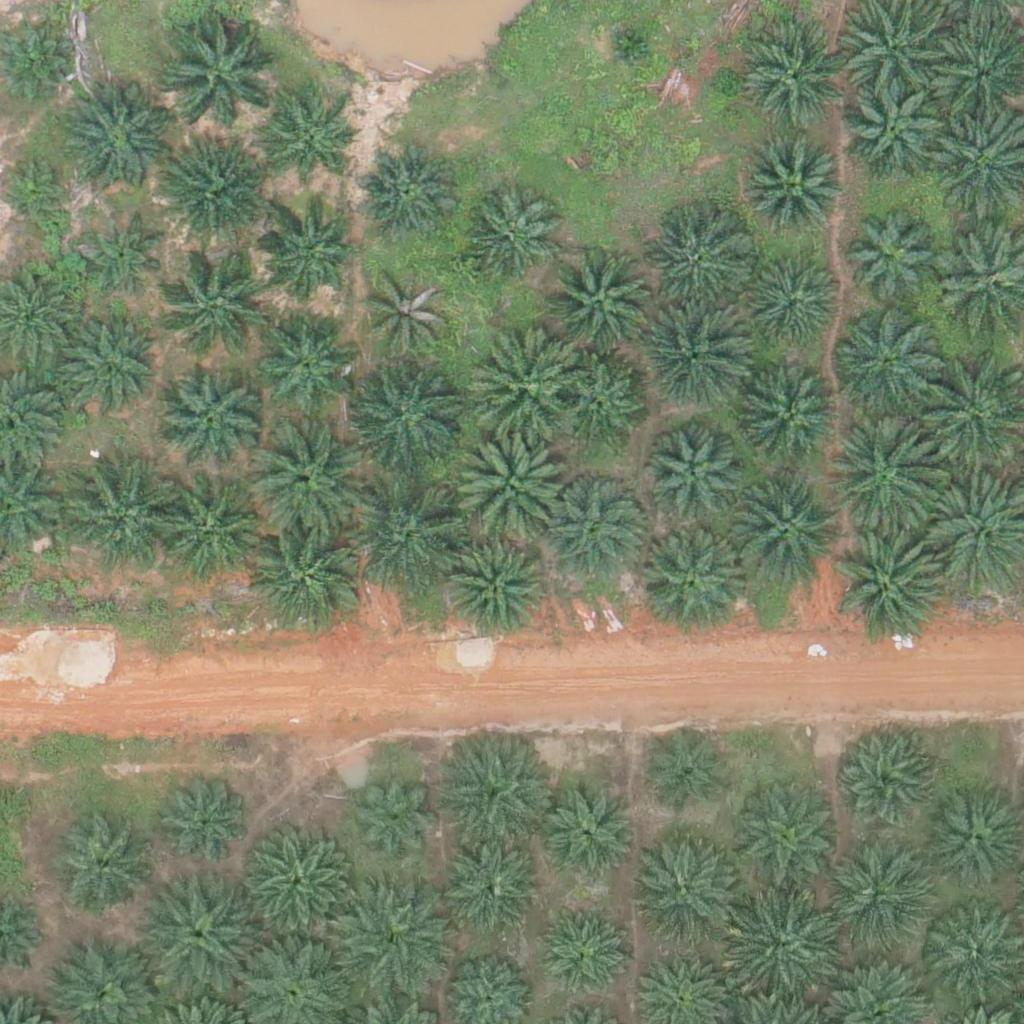Kelapa_Sawit: (823, 421, 936, 535), (639, 522, 752, 636), (726, 474, 839, 588), (338, 887, 451, 1000), (236, 828, 349, 941), (621, 835, 734, 948), (638, 301, 751, 414), (250, 522, 363, 635), (163, 12, 276, 125), (57, 85, 170, 198), (726, 780, 838, 894), (438, 729, 550, 843), (830, 305, 942, 419), (162, 243, 274, 357), (60, 460, 172, 574), (148, 877, 260, 990), (725, 895, 837, 1008), (835, 532, 947, 645), (543, 245, 655, 358), (466, 328, 578, 441), (453, 426, 565, 539), (355, 481, 467, 594), (351, 360, 463, 473), (249, 422, 361, 535), (150, 479, 262, 592), (153, 140, 265, 253), (154, 771, 254, 872), (440, 841, 540, 942), (842, 210, 942, 311), (843, 80, 943, 181), (644, 431, 744, 532), (545, 475, 645, 576), (459, 186, 559, 287), (255, 206, 355, 307), (157, 368, 257, 469), (57, 319, 157, 420), (53, 821, 153, 921), (823, 847, 923, 947), (834, 730, 934, 830), (532, 900, 632, 1000), (539, 776, 639, 876), (744, 31, 844, 131), (745, 140, 845, 240), (745, 256, 845, 356), (741, 372, 841, 472), (647, 216, 747, 316), (444, 538, 544, 638), (356, 141, 456, 241), (255, 310, 355, 410), (643, 726, 731, 814), (555, 359, 643, 447), (80, 213, 168, 301), (355, 774, 442, 862), (365, 272, 452, 360), (267, 102, 354, 190), (602, 18, 652, 69)
